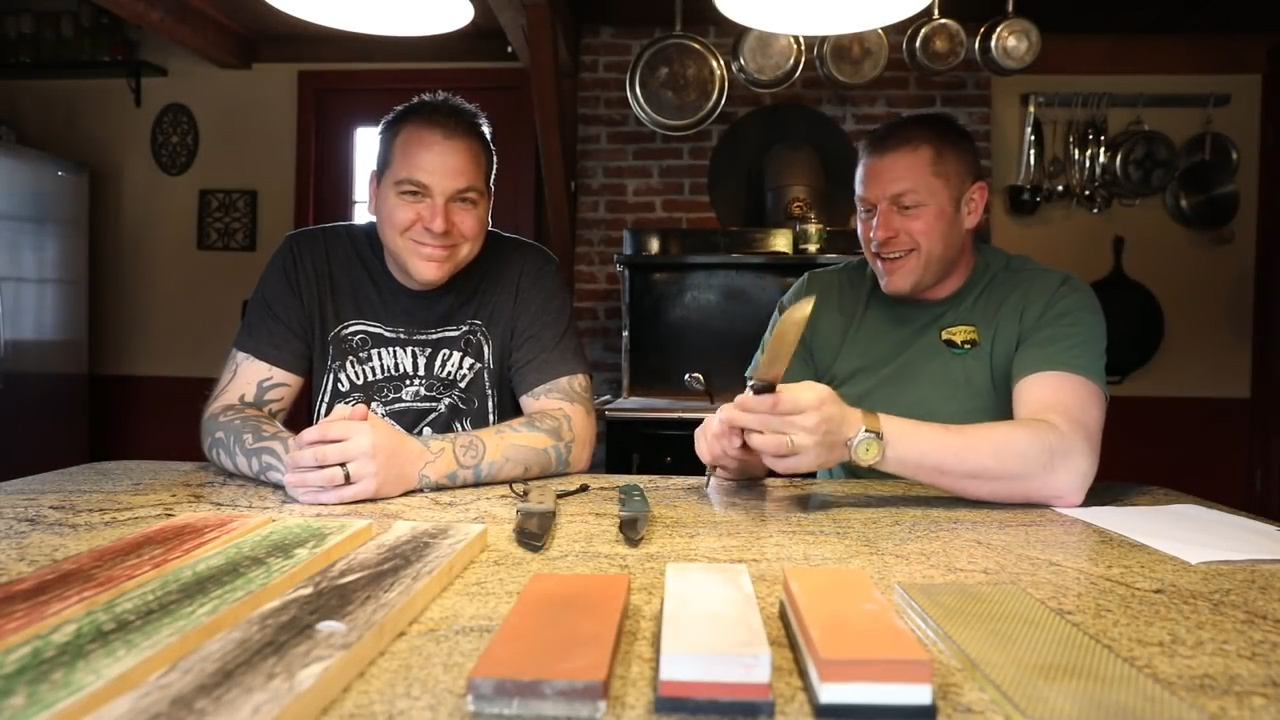knife: (699, 281, 832, 453)
